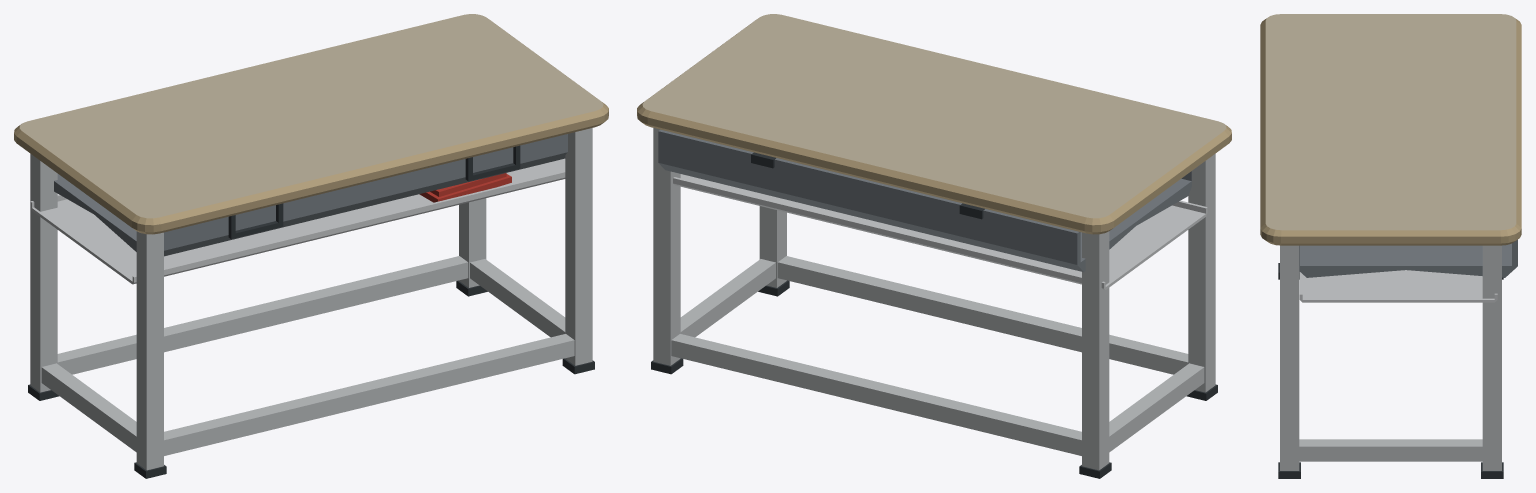
File: pupil-table-1eebd1.glb
3 views of the same model, side by side, from view 1: azimuth 30°, elevation 25°; view 2: azimuth 150°, elevation 25°; view 3: azimuth 270°, elevation 25° (orthographic). The views are drawn at different scales.
Parts seen in each view (by area): view 1: lid, pupil-table; view 2: pupil-table, lid; view 3: lid, pupil-table.
Part boxes in pixels (left/top/right/bottom): lid: left=14, top=14, right=608, bottom=239; pupil-table: left=28, top=128, right=594, bottom=478; pupil-table: left=651, top=128, right=1217, bottom=478; lid: left=637, top=14, right=1231, bottom=234; lid: left=1260, top=14, right=1521, bottom=245; pupil-table: left=1278, top=240, right=1517, bottom=478.
Size of the model in its own units: 1.2 by 0.64 by 0.6.
